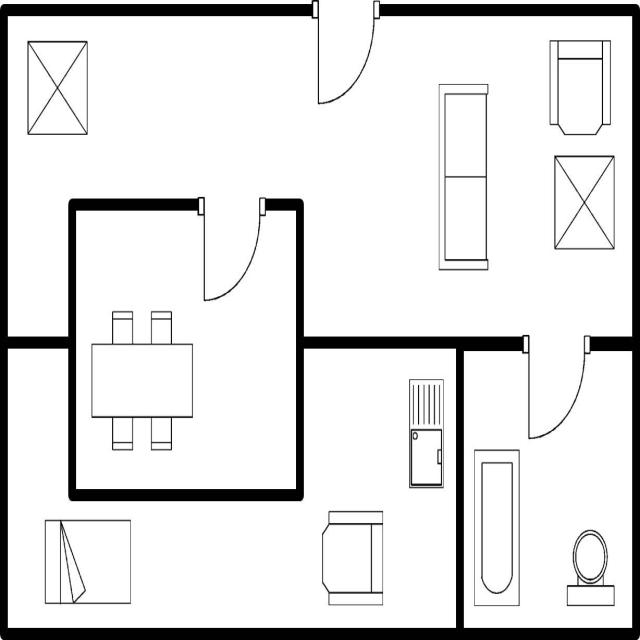armchair: (318, 502, 387, 612), (23, 34, 92, 140), (546, 35, 613, 139)
bed: (41, 513, 133, 610)
coffee_table: (550, 149, 618, 259)
dining_table: (89, 304, 198, 456)
large_sink: (563, 522, 617, 610)
large_sofa: (434, 78, 492, 274)
sink: (406, 374, 446, 496)
tub: (470, 444, 522, 612)
